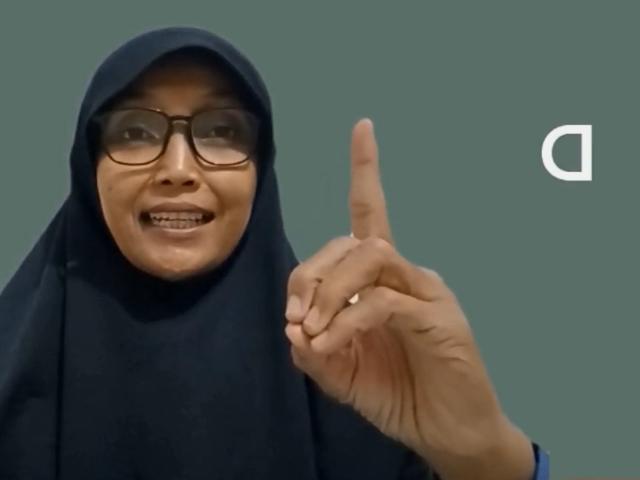D: (282, 118, 500, 460)
